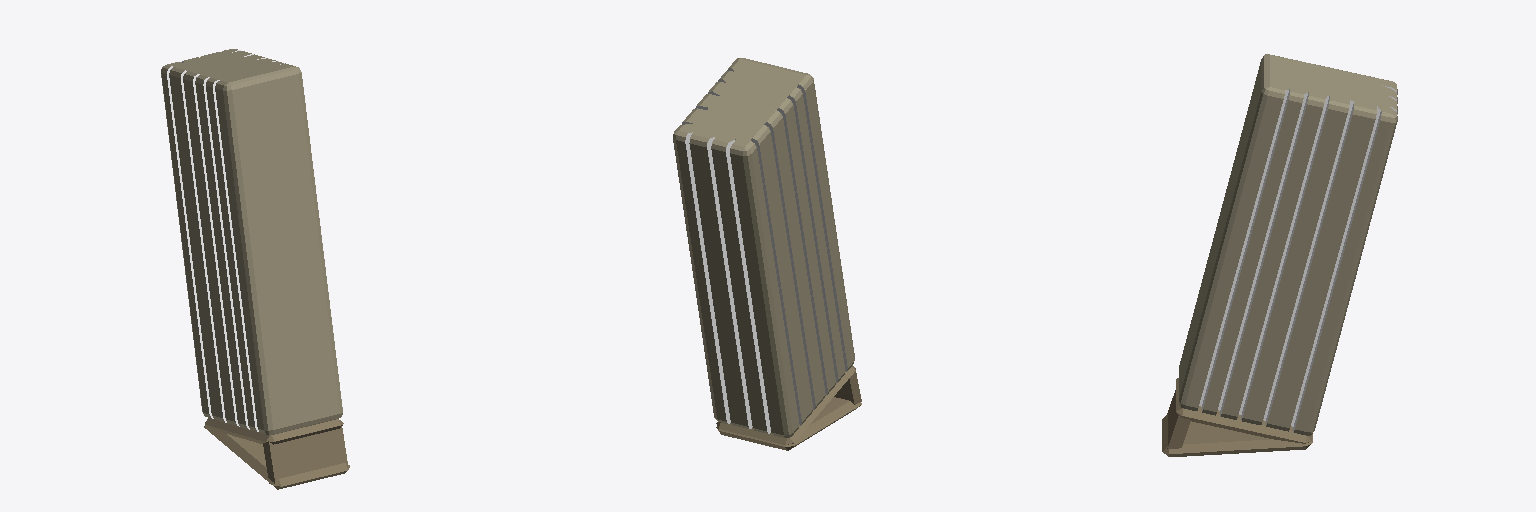
3 views of the same model, side by side, from view 1: azimuth 30°, elevation 25°; view 2: azimuth 150°, elevation 25°; view 3: azimuth 270°, elevation 25° (orthographic).
Visible parts, largest first — view 1: danjia, down.2, down.1, down, ???, ???.2, ???.3, ???.1, ???.4; view 2: danjia, down.1, ???.2_1, ???_1, ???.1_1, down, ???.1, ???.2, ???.3, ???, ???.4; view 3: danjia, down.1, down, ???.1_2, ???_2, ???.3_1, ???.2_2, ???.4_1, down.2.
Part boxes in pixels (bbox=[...]): danjia: bbox=[161, 49, 342, 434]; down.2: bbox=[263, 426, 347, 484]; down.1: bbox=[204, 425, 349, 489]; down: bbox=[205, 418, 343, 444]; ???: bbox=[193, 74, 239, 426]; ???.2: bbox=[203, 77, 249, 429]; ???.3: bbox=[167, 66, 213, 418]; ???.1: bbox=[181, 70, 226, 422]; ???.4: bbox=[213, 80, 258, 431]; danjia: bbox=[673, 58, 854, 437]; down.1: bbox=[716, 397, 861, 450]; ???.2_1: bbox=[726, 140, 770, 433]; ???_1: bbox=[707, 137, 752, 428]; ???.1_1: bbox=[685, 132, 730, 423]; down: bbox=[716, 365, 855, 444]; ???.1: bbox=[764, 122, 815, 409]; ???.2: bbox=[787, 95, 838, 382]; ???.3: bbox=[735, 138, 801, 425]; ???: bbox=[777, 108, 827, 394]; ???.4: bbox=[797, 84, 847, 371]; danjia: bbox=[1179, 54, 1397, 435]; down.1: bbox=[1162, 414, 1312, 456]; down: bbox=[1176, 378, 1311, 443]; ???.1_2: bbox=[1263, 100, 1353, 424]; ???_2: bbox=[1239, 96, 1329, 420]; ???.3_1: bbox=[1291, 106, 1381, 432]; ???.2_2: bbox=[1218, 92, 1308, 416]; ???.4_1: bbox=[1199, 89, 1289, 410]; down.2: bbox=[1167, 390, 1190, 450].
Size of the model in its own units: 13.46 by 60.92 by 35.03.